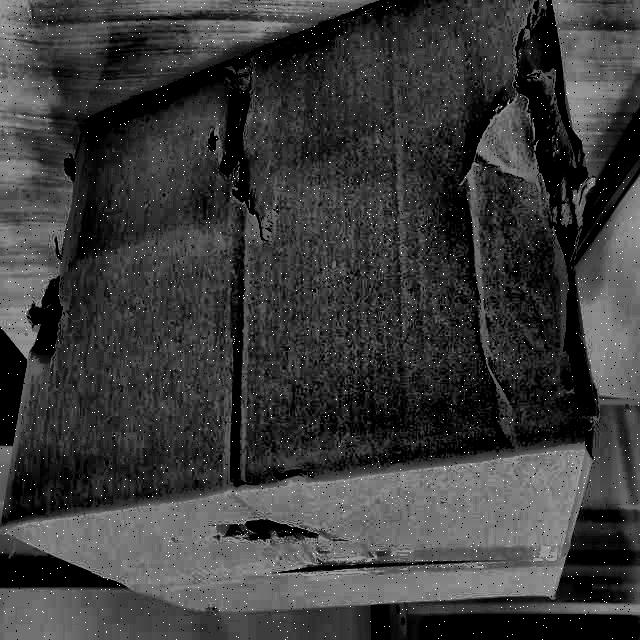box: (1, 1, 611, 628)
hole: (500, 22, 582, 284), (198, 96, 261, 200), (231, 514, 331, 550), (30, 274, 68, 364)
